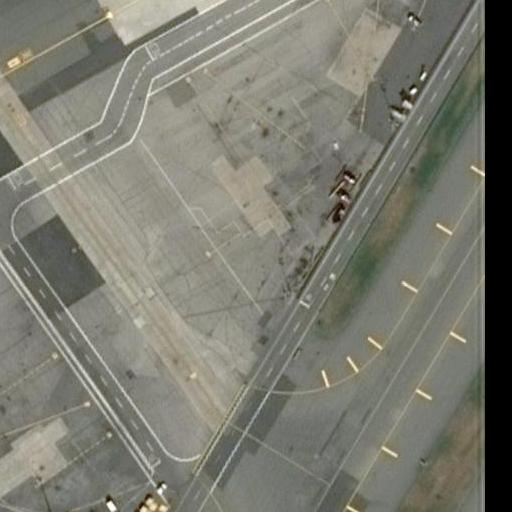Aircraft: (0, 497, 101, 512)
